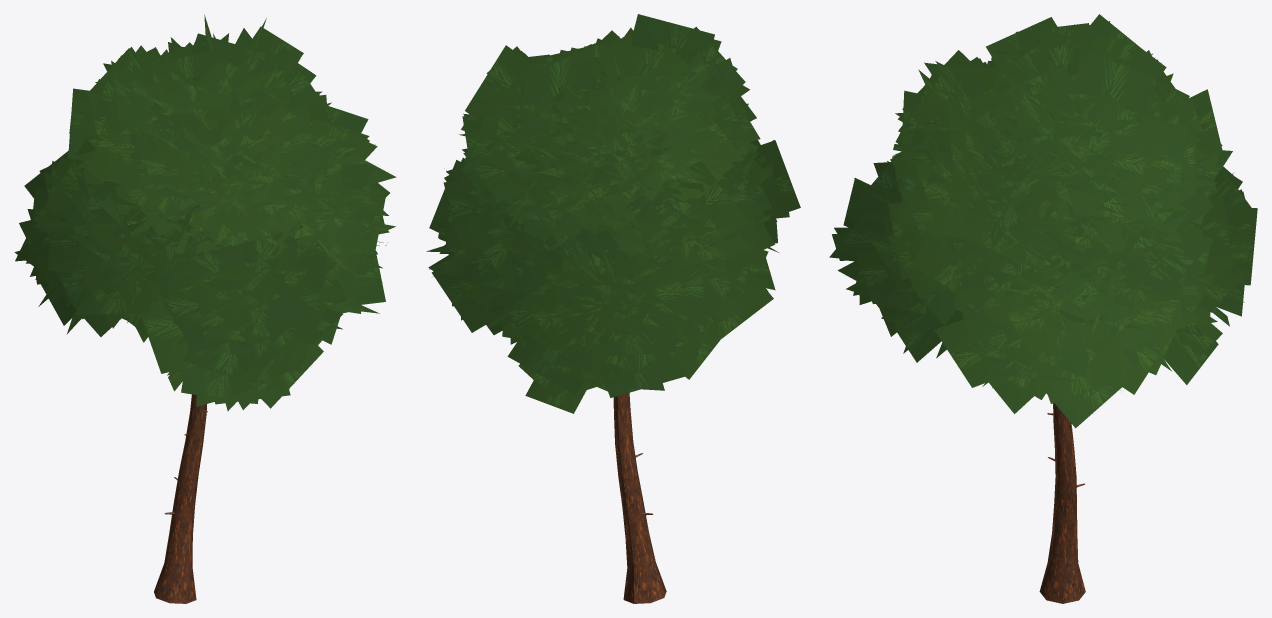
The model's file is tree_pine.glb.
The picture shows the model from 3 angles, left to right: view 1: azimuth 30°, elevation 25°; view 2: azimuth 150°, elevation 25°; view 3: azimuth 270°, elevation 25°; orthographic projection. The views are drawn at different scales.
Visible parts, largest first — view 1: tree_pine; view 2: tree_pine; view 3: tree_pine.
Boxes of the visible parts, x1=… form: tree_pine: x1=14, y1=14, x2=396, y2=603; tree_pine: x1=426, y1=14, x2=800, y2=603; tree_pine: x1=829, y1=14, x2=1257, y2=603.
Bounding box in the file's own units: 10.45 × 16.56 × 11.34.
Materials: 2 (2 with a texture image).
